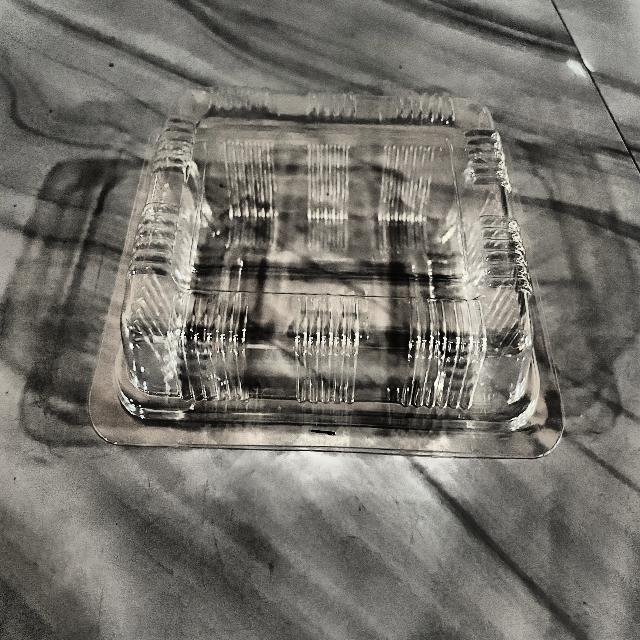plastic container: (74, 82, 587, 517)
